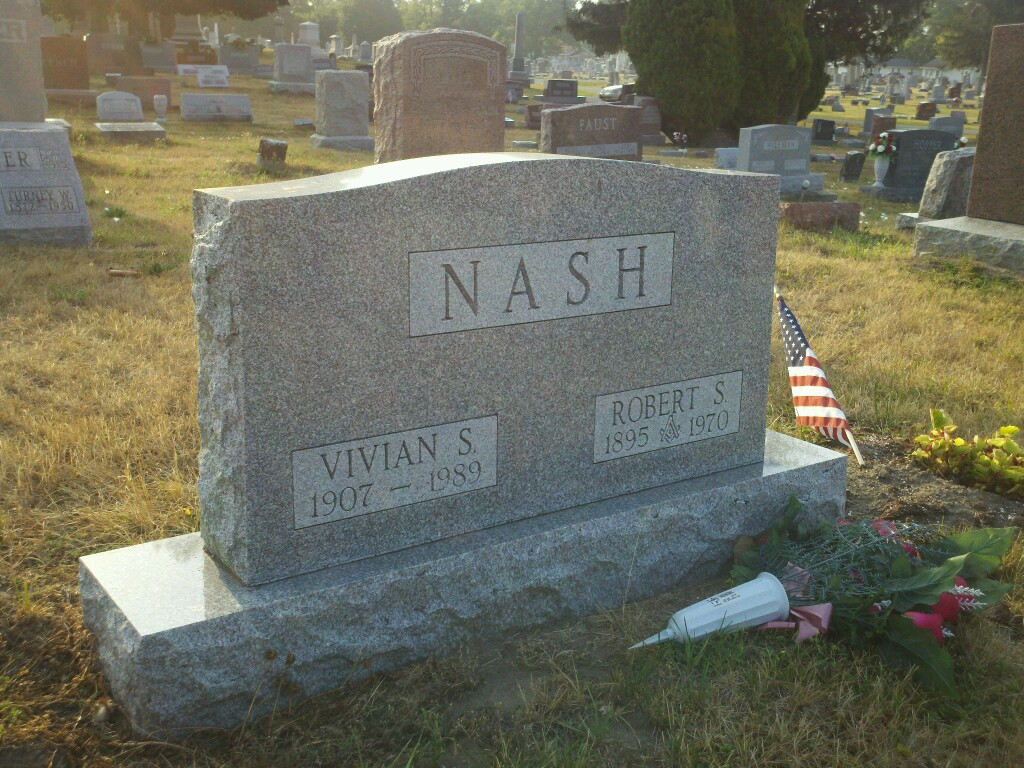upright: (37, 121, 918, 648)
